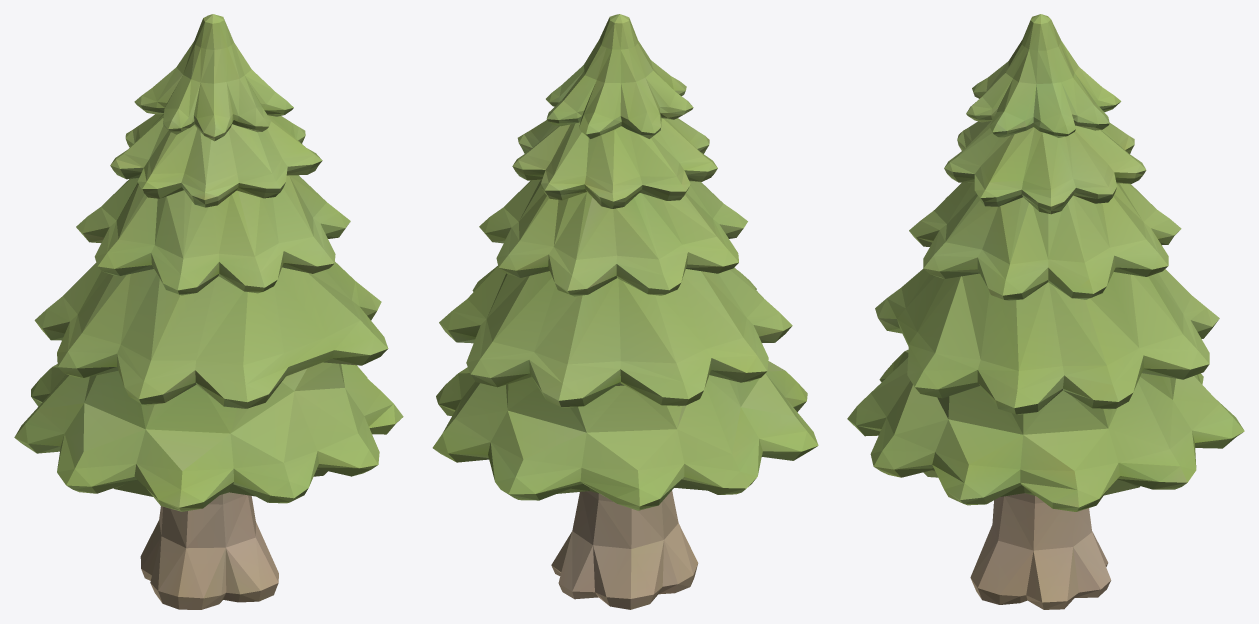
Rendered from cedar.glb.
3 views of the same model, side by side, from view 1: azimuth 30°, elevation 25°; view 2: azimuth 150°, elevation 25°; view 3: azimuth 270°, elevation 25° (orthographic).
Parts seen in each view (by area): view 1: geometry_0; view 2: geometry_0; view 3: geometry_0.
Part boxes in pixels (left/top/right/bottom): geometry_0: left=14, top=14, right=403, bottom=609; geometry_0: left=432, top=14, right=818, bottom=609; geometry_0: left=847, top=14, right=1244, bottom=609.
Size of the model in its own units: 0.1309 by 0.2095 by 0.1323.
